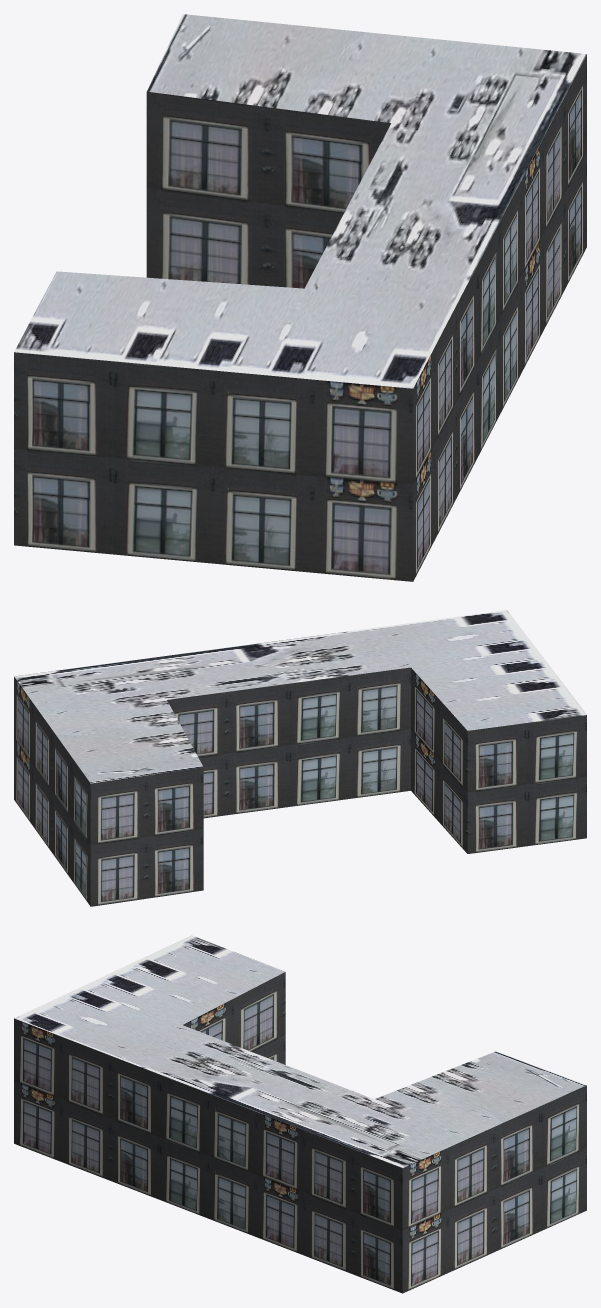
The model's file is ResTex__512.fbx.
The picture shows the model from 3 angles, top to bottom: view 1: azimuth 30°, elevation 25°; view 2: azimuth 150°, elevation 25°; view 3: azimuth 270°, elevation 25°; orthographic projection. The views are drawn at different scales.
Parts seen in each view (by area): view 1: CityEngineMaterial_22_m, CityEngineMaterial_2_m; view 2: CityEngineMaterial_22_m, CityEngineMaterial_2_m; view 3: CityEngineMaterial_22_m, CityEngineMaterial_2_m.
Boxes of the visible parts, left/top/right/bottom form: CityEngineMaterial_22_m: left=14, top=54, right=586, bottom=581; CityEngineMaterial_2_m: left=14, top=14, right=586, bottom=388; CityEngineMaterial_22_m: left=14, top=667, right=586, bottom=906; CityEngineMaterial_2_m: left=14, top=610, right=586, bottom=783; CityEngineMaterial_22_m: left=14, top=972, right=586, bottom=1293; CityEngineMaterial_2_m: left=14, top=935, right=586, bottom=1168.
Bounding box in the file's own units: 23.9 × 6 × 24.86.
Materials: 2 (2 with a texture image).
